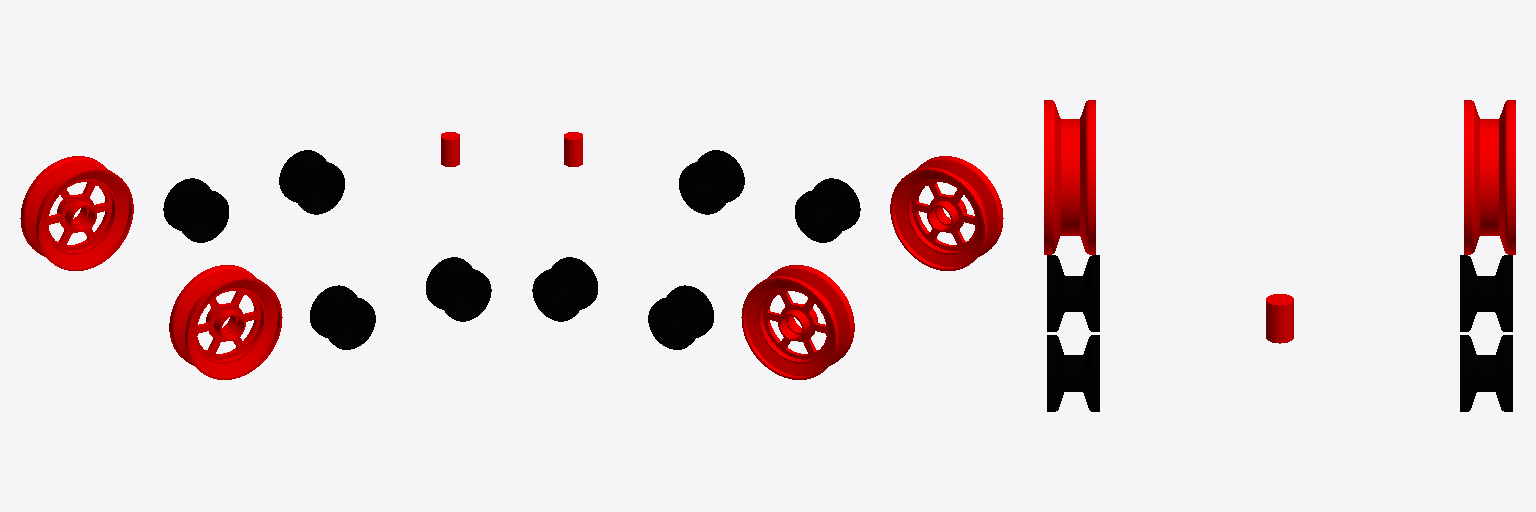
robot.urdf — msd_tunnel_dtw:
<?xml version="1.0" ?>
<!-- =================================================================================== -->
<!-- |    This document was autogenerated by xacro from msd_tunnel_sensor.xacro        | -->
<!-- |    EDITING THIS FILE BY HAND IS NOT RECOMMENDED                                 | -->
<!-- =================================================================================== -->
<robot name="msd_tunnel_dtw">
  <material name="gray">
    <color rgba="0.3 0.3 0.3 1.0"/>
  </material>
  <material name="red">
    <color rgba="1.0 0.0 0.0 1.0"/>
  </material>
  <link name="base_link"/>
  <joint name="body_joint" type="fixed">
    <parent link="base_link"/>
    <child link="body_link"/>
    <origin rpy="0 0 0" xyz="0 0 0"/>
  </joint>
  <link name="body_link">
    <inertial>
      <origin rpy="0 0 0" xyz="0 0 0"/>
      <mass value="18.28"/>
      <inertia ixx="0.001" ixy="0.0" ixz="0.0" iyy="0.001" iyz="0.0" izz="0.001"/>
    </inertial>
    <visual>
      <origin rpy="0 0 0" xyz="0 0 0"/>
      <geometry>
        <mesh filename="package://msd_simulator/model/meshes/msd_tunnel/body.dae"/>
      </geometry>
      <material name="gray"/>
    </visual>
    <collision>
      <origin rpy="0 0 0" xyz="0 0 0.250"/>
      <geometry>
        <box size="0.800 0.480 0.400"/>
      </geometry>
    </collision>
  </link>
  <gazebo reference="body_link">
    <material>Gazebo/Gray</material>
  </gazebo>
  <joint name="left_wheel_joint" type="continuous">
    <origin rpy="0 0 0" xyz="-0.2575 0.300 0.1105"/>
    <parent link="base_link"/>
    <child link="left_wheel_link"/>
    <axis xyz="0 1 0"/>
  </joint>
  <transmission name="left_wheel_trans" type="SimpleTransmission">
    <type>transmission_interface/SimpleTransmission</type>
    <actuator name="left_wheel_motor">
      <mechanicalReduction>1</mechanicalReduction>
    </actuator>
    <joint name="left_wheel_joint">
      <hardwareInterface>hardware_interface/VelocityJointInterface</hardwareInterface>
    </joint>
  </transmission>
  <link name="left_wheel_link">
    <inertial>
      <mass value="3.5"/>
      <inertia ixx="0.0001" ixy="0.0" ixz="0.0" iyy="0.0001" iyz="0.0" izz="0.0001"/>
    </inertial>
    <visual>
      <geometry>
        <mesh filename="package://msd_simulator/model/meshes/msd_tunnel/drive_wheel.dae"/>
      </geometry>
      <material name="red"/>
    </visual>
    <collision>
      <origin rpy="1.57 0 0" xyz="0 0 0"/>
      <geometry>
        <cylinder length="0.076" radius="0.1105"/>
      </geometry>
    </collision>
  </link>
  <gazebo reference="left_wheel_link">
    <material>Gazebo/Red</material>
    <mu1 value="1.0"/>
    <mu2 value="1.0"/>
    <kp value="10000000"/>
    <kd value="10"/>
  </gazebo>
  <joint name="right_wheel_joint" type="continuous">
    <origin rpy="0 0 0" xyz="-0.2575 -0.300 0.1105"/>
    <parent link="base_link"/>
    <child link="right_wheel_link"/>
    <axis xyz="0 1 0"/>
  </joint>
  <transmission name="right_wheel_trans" type="SimpleTransmission">
    <type>transmission_interface/SimpleTransmission</type>
    <actuator name="right_wheel_motor">
      <mechanicalReduction>1</mechanicalReduction>
    </actuator>
    <joint name="right_wheel_joint">
      <hardwareInterface>hardware_interface/VelocityJointInterface</hardwareInterface>
    </joint>
  </transmission>
  <link name="right_wheel_link">
    <inertial>
      <mass value="3.5"/>
      <inertia ixx="0.0001" ixy="0.0" ixz="0.0" iyy="0.0001" iyz="0.0" izz="0.0001"/>
    </inertial>
    <visual>
      <geometry>
        <mesh filename="package://msd_simulator/model/meshes/msd_tunnel/drive_wheel.dae"/>
      </geometry>
      <material name="red"/>
    </visual>
    <collision>
      <origin rpy="1.57 0 0" xyz="0 0 0"/>
      <geometry>
        <cylinder length="0.076" radius="0.1105"/>
      </geometry>
    </collision>
  </link>
  <gazebo reference="right_wheel_link">
    <material>Gazebo/Red</material>
    <mu1 value="1.0"/>
    <mu2 value="1.0"/>
    <kp value="10000000"/>
    <kd value="10"/>
  </gazebo>
  <!-- -0.2575 -300 0.053 -->
  <joint name="left_front_joint" type="fixed">
    <parent link="base_link"/>
    <child link="left_front_link"/>
    <origin rpy="0 0 0" xyz="0.287 0.295 0.055"/>
  </joint>
  <link name="left_front_link">
    <inertial>
      <mass value="1.1"/>
      <inertia ixx="0.0001" ixy="0.0" ixz="0.0" iyy="0.0001" iyz="0.0" izz="0.0001"/>
    </inertial>
    <visual>
      <origin rpy="0 0 0" xyz="0 0 0"/>
      <geometry>
        <mesh filename="package://msd_simulator/model/meshes/msd_tunnel/roller.dae"/>
      </geometry>
    </visual>
    <collision>
      <origin rpy="1.57 0 0" xyz="0 0 0"/>
      <geometry>
        <cylinder length="0.076" radius="0.055"/>
      </geometry>
    </collision>
  </link>
  <gazebo reference="left_front_link">
    <material>Gazebo/Gray</material>
    <mu1 value="0.1"/>
    <mu2 value="0.1"/>
    <kp value="10000000"/>
    <kd value="10"/>
  </gazebo>
  <joint name="left_center_joint" type="fixed">
    <parent link="base_link"/>
    <child link="left_center_link"/>
    <origin rpy="0 0 0" xyz="0.0175 0.295 0.055"/>
  </joint>
  <link name="left_center_link">
    <inertial>
      <mass value="1.1"/>
      <inertia ixx="0.0001" ixy="0.0" ixz="0.0" iyy="0.0001" iyz="0.0" izz="0.0001"/>
    </inertial>
    <visual>
      <origin rpy="0 0 0" xyz="0 0 0"/>
      <geometry>
        <mesh filename="package://msd_simulator/model/meshes/msd_tunnel/roller.dae"/>
      </geometry>
    </visual>
    <collision>
      <origin rpy="1.57 0 0" xyz="0 0 0"/>
      <geometry>
        <cylinder length="0.076" radius="0.055"/>
      </geometry>
    </collision>
  </link>
  <gazebo reference="left_center_link">
    <material>Gazebo/Gray</material>
    <mu1 value="0.1"/>
    <mu2 value="0.1"/>
    <kp value="10000000"/>
    <kd value="10"/>
  </gazebo>
  <joint name="right_front_joint" type="fixed">
    <parent link="base_link"/>
    <child link="right_front_link"/>
    <origin rpy="0 0 0" xyz="0.287 -0.295 0.055"/>
  </joint>
  <link name="right_front_link">
    <inertial>
      <mass value="1.1"/>
      <inertia ixx="0.0001" ixy="0.0" ixz="0.0" iyy="0.0001" iyz="0.0" izz="0.0001"/>
    </inertial>
    <visual>
      <origin rpy="0 0 0" xyz="0 0 0"/>
      <geometry>
        <mesh filename="package://msd_simulator/model/meshes/msd_tunnel/roller.dae"/>
      </geometry>
    </visual>
    <collision>
      <origin rpy="1.57 0 0" xyz="0 0 0"/>
      <geometry>
        <cylinder length="0.076" radius="0.055"/>
      </geometry>
    </collision>
  </link>
  <gazebo reference="right_front_link">
    <material>Gazebo/Gray</material>
    <mu1 value="0.1"/>
    <mu2 value="0.1"/>
    <kp value="10000000"/>
    <kd value="10"/>
  </gazebo>
  <joint name="right_center_joint" type="fixed">
    <parent link="base_link"/>
    <child link="right_center_link"/>
    <origin rpy="0 0 0" xyz="0.0175 -0.295 0.055"/>
  </joint>
  <link name="right_center_link">
    <inertial>
      <mass value="1.1"/>
      <inertia ixx="0.0001" ixy="0.0" ixz="0.0" iyy="0.0001" iyz="0.0" izz="0.0001"/>
    </inertial>
    <visual>
      <origin rpy="0 0 0" xyz="0 0 0"/>
      <geometry>
        <mesh filename="package://msd_simulator/model/meshes/msd_tunnel/roller.dae"/>
      </geometry>
    </visual>
    <collision>
      <origin rpy="1.57 0 0" xyz="0 0 0"/>
      <geometry>
        <cylinder length="0.076" radius="0.055"/>
      </geometry>
    </collision>
  </link>
  <gazebo reference="right_center_link">
    <material>Gazebo/Gray</material>
    <mu1 value="0.1"/>
    <mu2 value="0.1"/>
    <kp value="10000000"/>
    <kd value="10"/>
  </gazebo>
  <joint name="rplidar_s1_joint" type="fixed">
    <parent link="base_link"/>
    <child link="rplidar_s1_link"/>
    <origin rpy="0 0 0" xyz="0.4385 0 0.2121"/>
  </joint>
  <link name="rplidar_s1_link">
    <visual>
      <origin rpy="0 0 0" xyz="0 0 0"/>
      <geometry>
        <cylinder length="0.06" radius="0.02"/>
      </geometry>
      <material name="red"/>
    </visual>
    <collision>
      <origin rpy="0 0 0" xyz="0 0 0"/>
      <geometry>
        <cylinder length="0.06" radius="0.02"/>
      </geometry>
    </collision>
  </link>
  <gazebo reference="rplidar_s1_link">
    <material>Gazebo/Red</material>
    <sensor name="rplidar_s1" type="ray">
      <pose>0 0 0 0 0 0</pose>
      <visualize>false</visualize>
      <update_rate>10</update_rate>
      <ray>
        <scan>
          <horizontal>
            <samples>400</samples>
            <resolution>1</resolution>
            <min_angle>-1.5707963267948966</min_angle>
            <max_angle>1.5707963267948966</max_angle>
          </horizontal>
        </scan>
        <range>
          <min>0.10</min>
          <max>20.0</max>
          <resolution>0.01</resolution>
        </range>
        <noise>
          <type>gaussian</type>
          <mean>0.0</mean>
          <stddev>0.01</stddev>
        </noise>
      </ray>
      <plugin filename="libgazebo_ros_laser.so" name="gazebo_ros_lidar_controller">
        <topicName>/rplidar_s1_link/scan</topicName>
        <frameName>rplidar_s1_link</frameName>
      </plugin>
    </sensor>
  </gazebo>
  <gazebo>
    <plugin filename="libgazebo_ros_control.so" name="gazebo_ros_control">
      <robotNamespace>/msd_tunnel_dtw</robotNamespace>
      <robotSimType>gazebo_ros_control/DefaultRobotHWSim</robotSimType>
      <legacyModeNS>true</legacyModeNS>
    </plugin>
  </gazebo>
</robot>

--- Render facts (derived) ---
Views: 3 orthographic renders of the robot side by side, from view 1: azimuth 30°, elevation 25°; view 2: azimuth 150°, elevation 25°; view 3: azimuth 270°, elevation 25°.
Model msd_tunnel_dtw with 9 links and 8 joints (2 continuous, 6 fixed), rooted at base_link, posed every joint at zero.
Visible links, largest first — view 1: right_wheel_link, left_wheel_link, left_front_link, right_center_link, left_center_link, right_front_link, rplidar_s1_link; view 2: left_wheel_link, right_wheel_link, right_front_link, left_center_link, right_center_link, left_front_link, rplidar_s1_link; view 3: left_wheel_link, right_wheel_link, left_front_link, right_front_link, left_center_link, right_center_link, rplidar_s1_link.
Link boxes in pixels (x1,y1,x2,y2): right_wheel_link: (169,265,282,379); left_wheel_link: (20,156,133,270); left_front_link: (279,150,344,214); right_center_link: (310,285,375,349); left_center_link: (163,178,228,242); right_front_link: (426,257,491,321); rplidar_s1_link: (441,132,459,166); left_wheel_link: (741,265,854,379); right_wheel_link: (890,156,1003,270); right_front_link: (679,150,744,214); left_center_link: (648,285,713,349); right_center_link: (795,178,860,242); left_front_link: (532,257,597,321); rplidar_s1_link: (564,132,582,166); left_wheel_link: (1464,100,1515,254); right_wheel_link: (1044,100,1095,254); left_front_link: (1460,335,1512,411); right_front_link: (1047,335,1099,411); left_center_link: (1460,255,1512,331); right_center_link: (1047,255,1099,331); rplidar_s1_link: (1266,294,1293,343).
Size in the robot's own frame: 0.8265 by 0.674 by 0.2421 metres.
Meshes: 3 distinct files referenced, 6 mesh visuals loaded (2 Collada DAE); not drawn: 1 (reference not matched to a file when rendering).
